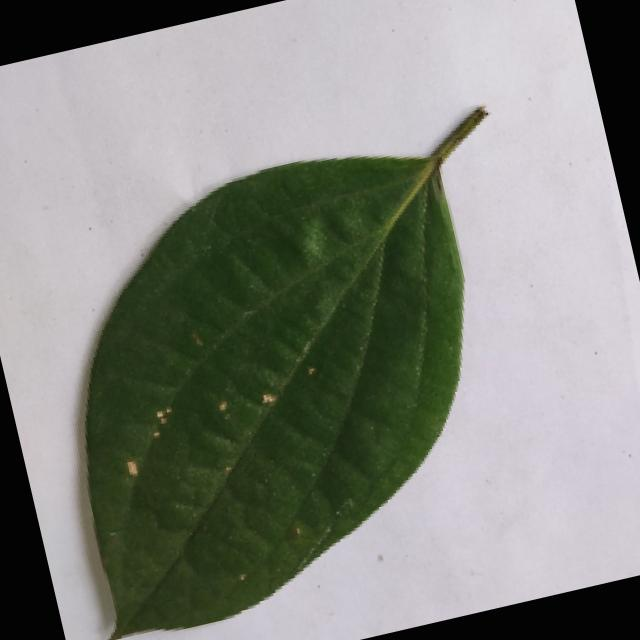pollu-disease: (0, 103, 594, 640)
